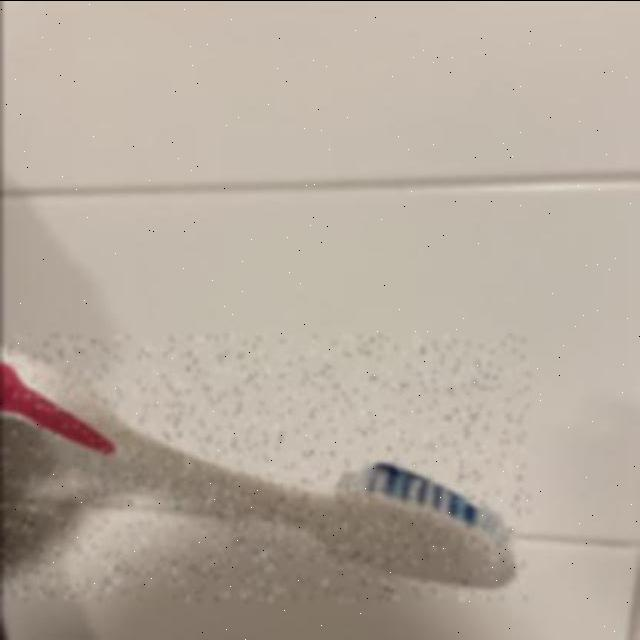toothbrush: (0, 334, 528, 600)
